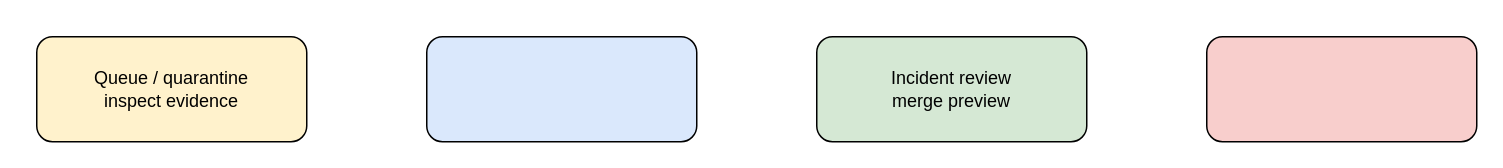
The diagram is 1503 pixels wide and 168 high, and some of its shapes have lost their labels. The centre of each missing label's shape, as x and y in pixels:
actor + reason retry or waive ControlAudit: point (561, 88)
State writer + lock revision + outbox: point (1341, 88)
